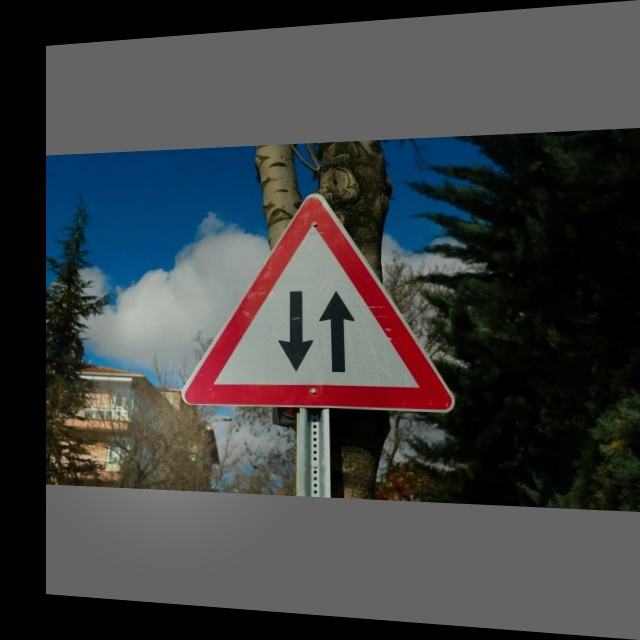Mandatory_Two_Way_Traffic: (182, 190, 455, 417)
